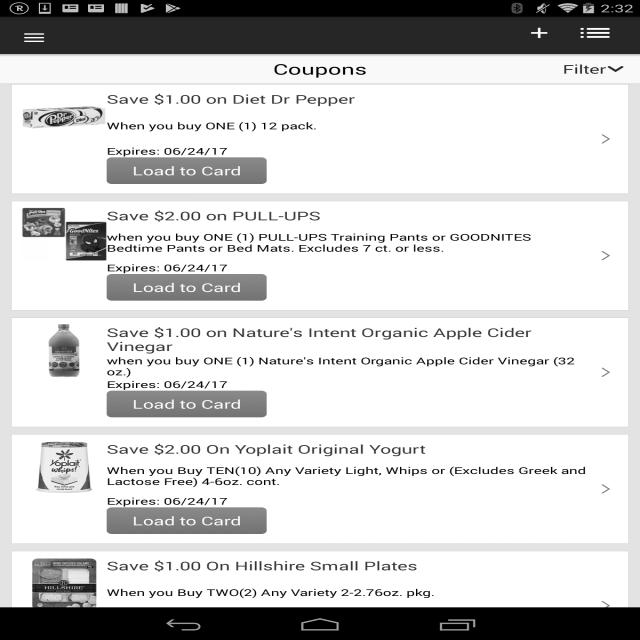Button: (106, 157, 266, 184), (106, 274, 266, 301), (106, 507, 266, 534), (106, 391, 266, 417)
ImageButton: (511, 11, 567, 54), (567, 11, 623, 54), (0, 19, 60, 57)
ImageView: (21, 207, 107, 261), (21, 557, 107, 611), (21, 91, 107, 144), (21, 324, 107, 377), (21, 441, 107, 494), (593, 131, 619, 147), (593, 248, 619, 264), (593, 364, 619, 380), (593, 481, 619, 497), (593, 598, 619, 614), (608, 64, 624, 74)
TextView: (106, 107, 586, 145), (106, 457, 586, 495), (106, 224, 586, 261), (106, 574, 586, 611), (106, 324, 586, 354), (106, 354, 586, 378), (106, 261, 586, 274), (106, 378, 586, 391), (106, 145, 586, 157), (106, 495, 586, 507), (107, 557, 418, 574), (107, 441, 426, 457), (107, 91, 356, 107), (107, 207, 320, 224), (273, 59, 367, 79), (562, 57, 608, 81), (629, 59, 640, 79)
